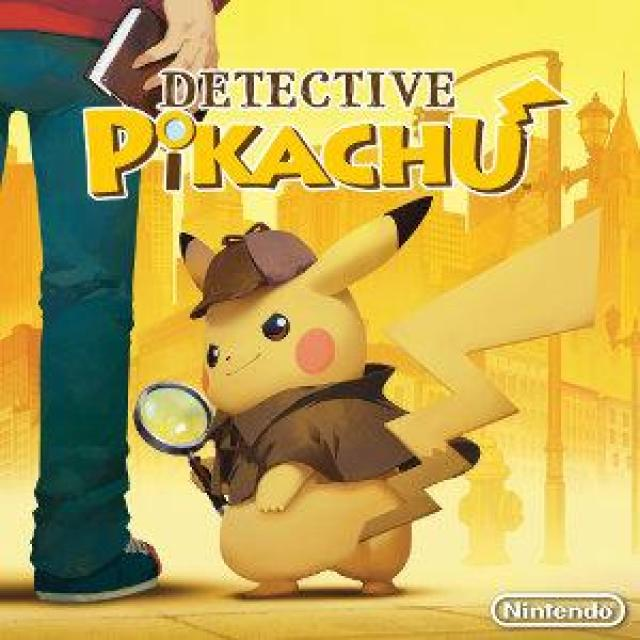pikachu: (176, 203, 610, 600)
